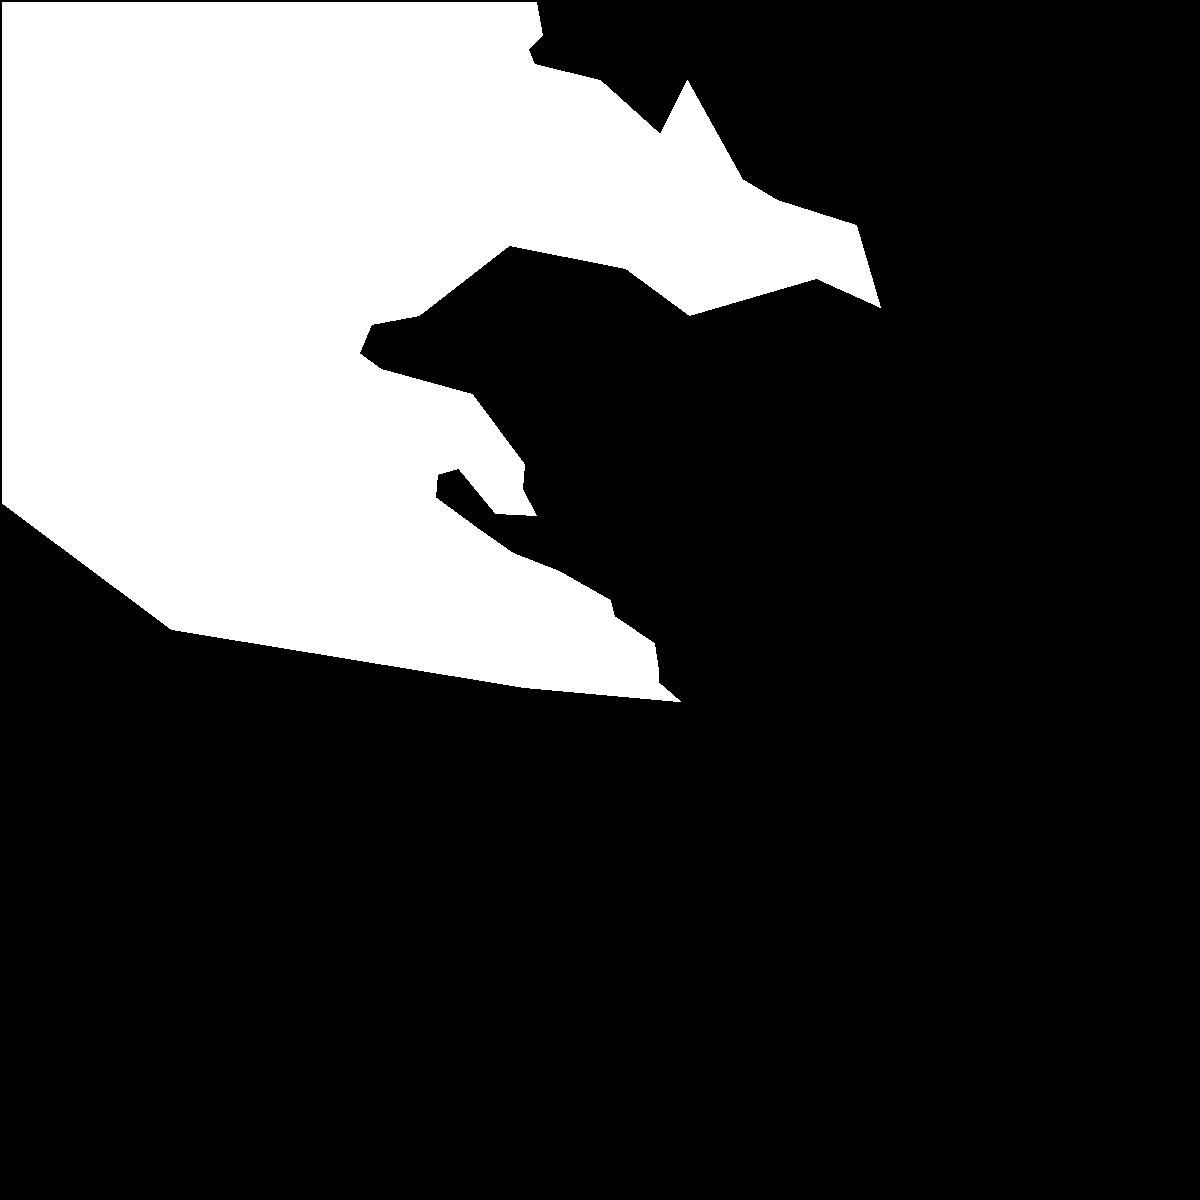Fire: (276, 40, 874, 321), (484, 553, 678, 715)
